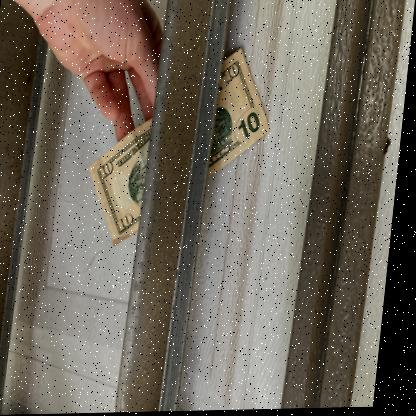ten-back: (90, 48, 274, 249)
